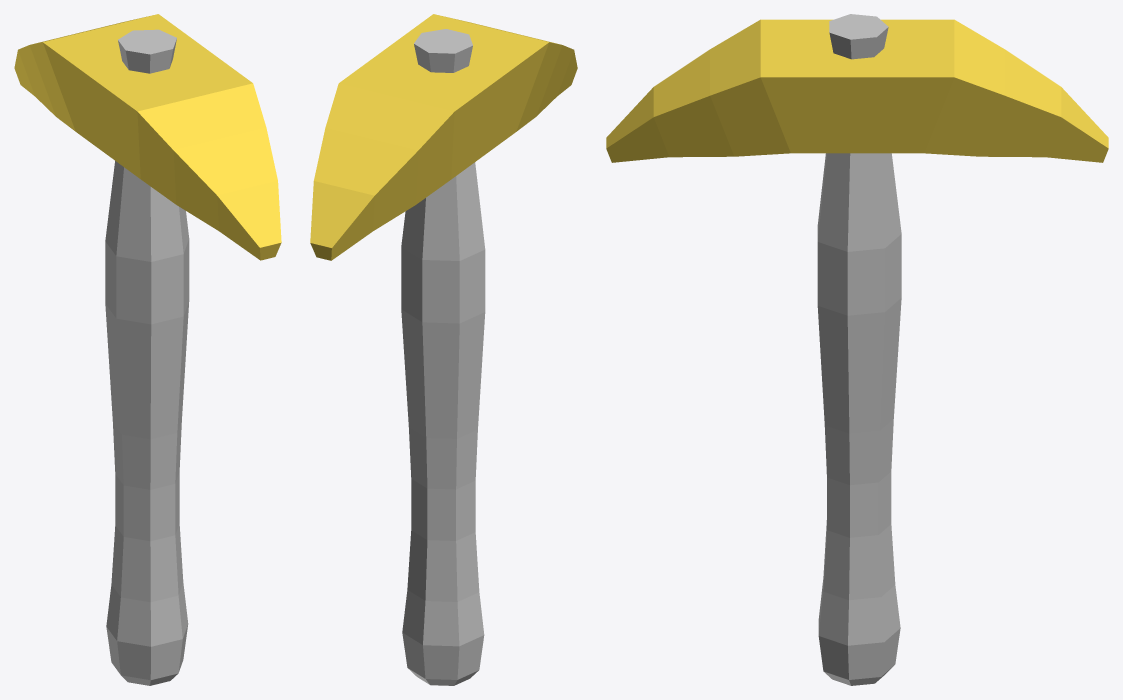
Rendered from Yellow Pickaxe.fbx.
The picture shows the model from 3 angles, left to right: view 1: azimuth 30°, elevation 25°; view 2: azimuth 150°, elevation 25°; view 3: azimuth 270°, elevation 25°; orthographic projection. The views are drawn at different scales.
Parts seen in each view (by area): view 1: Handle, Head; view 2: Handle, Head; view 3: Head, Handle.
Part boxes in pixels (bbox=[...]): Handle: bbox=[105, 29, 189, 685]; Head: bbox=[14, 14, 281, 260]; Handle: bbox=[401, 29, 485, 685]; Head: bbox=[310, 14, 577, 260]; Head: bbox=[606, 19, 1108, 162]; Handle: bbox=[817, 14, 901, 685].
Bounding box in the file's own units: 144 × 751 × 528.
